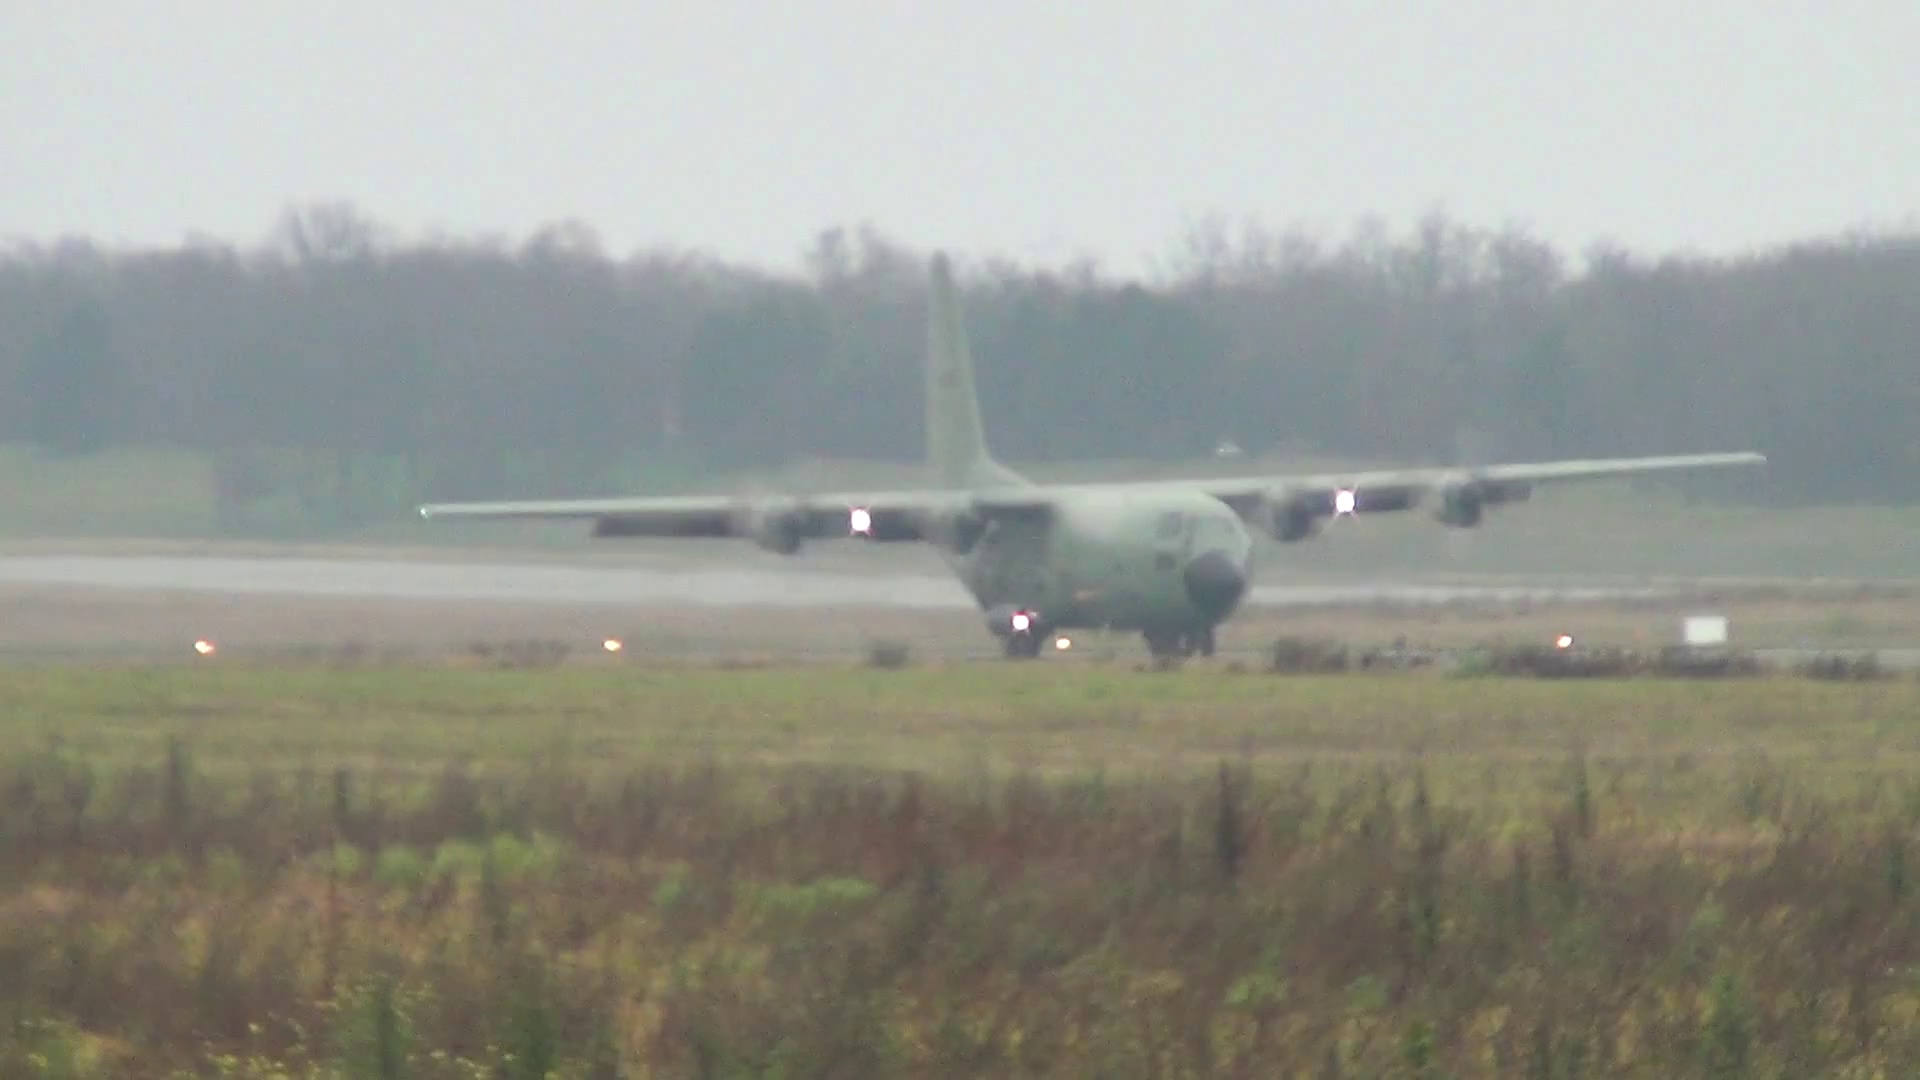Airplane: (411, 251, 1771, 653)
